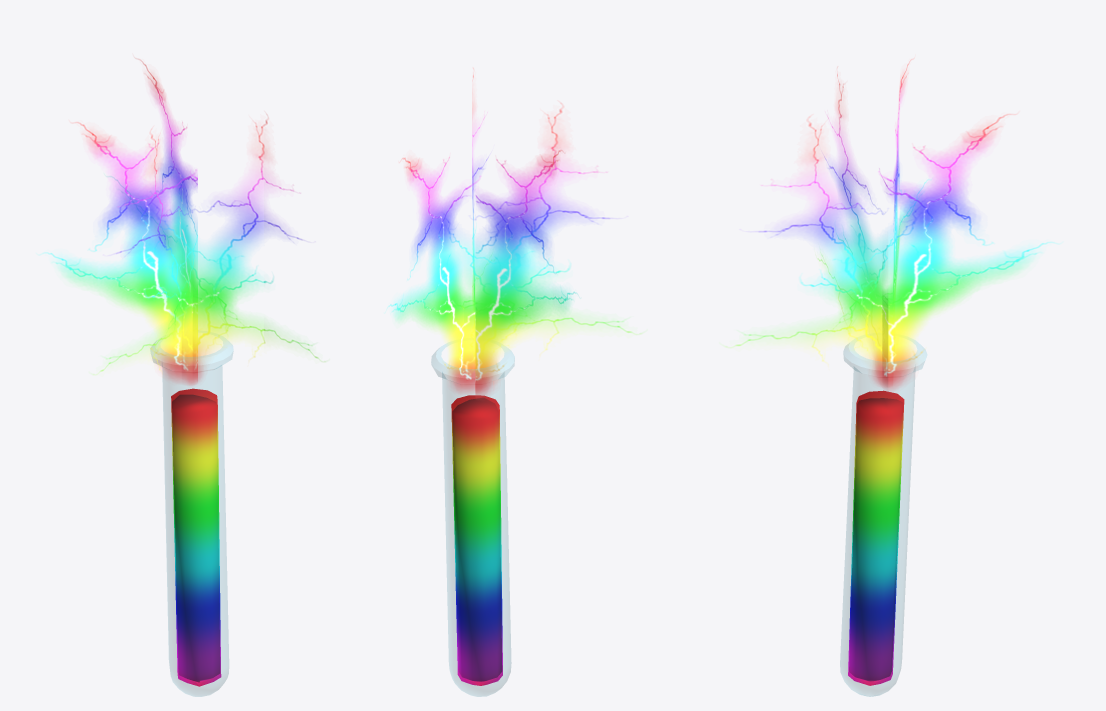
File: bathWater.glb
3 views of the same model, side by side, from view 1: azimuth 30°, elevation 25°; view 2: azimuth 150°, elevation 25°; view 3: azimuth 270°, elevation 25° (orthographic).
Visible parts, largest first — view 1: beakerTube; view 2: beakerTube; view 3: beakerTube.
Boxes of the visible parts, bbox=[...] form: beakerTube: bbox=[40, 58, 325, 696]; beakerTube: bbox=[387, 68, 641, 696]; beakerTube: bbox=[725, 59, 1057, 696].
Size of the model in its own units: 1.51 by 4 by 2.37.
Materials: 3 (3 with a texture image).
